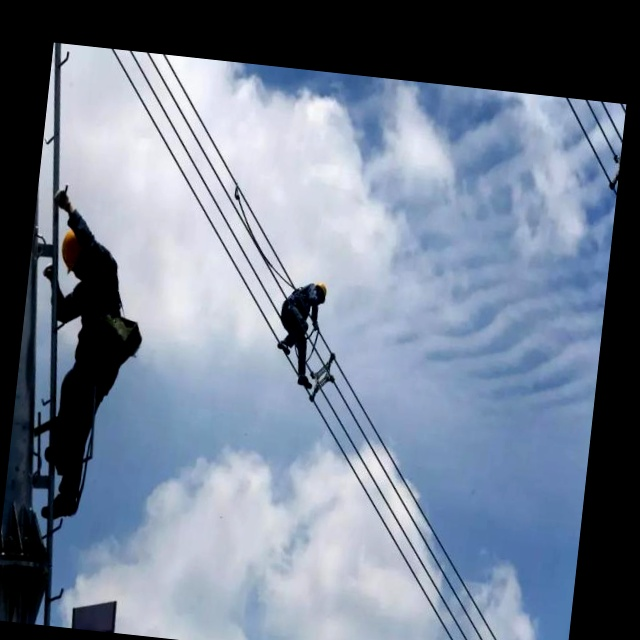Con_Casco: (59, 227, 87, 279), (313, 280, 331, 304)
